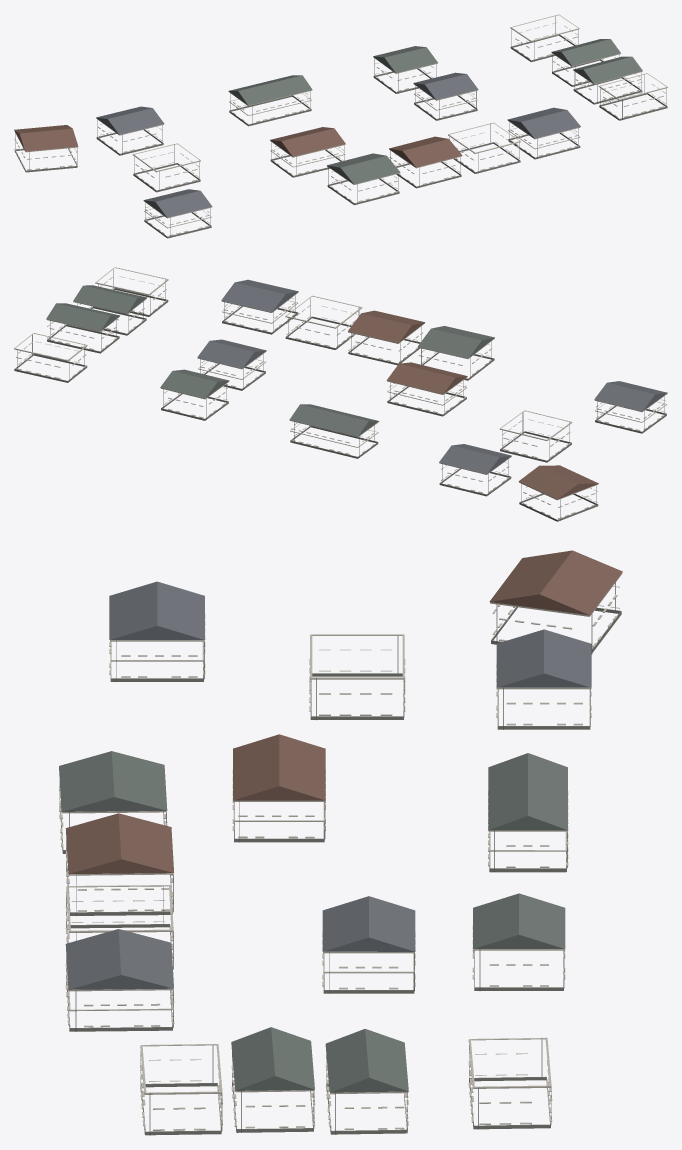
File: district_-2_2.glb
3 renders of one model, top to bottom at view 1: azimuth 30°, elevation 25°; view 2: azimuth 150°, elevation 25°; view 3: azimuth 270°, elevation 25°, orthographic. The views are drawn at different scales.
Visible parts, largest first — view 1: RoofMetal, MasonryTrim, MetalDetails; view 2: RoofMetal, MasonryTrim, MetalDetails; view 3: RoofMetal, MasonryTrim, MetalDetails.
Boxes of the visible parts, x1,y1,x2,y2 form: RoofMetal: (14,39,642,217); MasonryTrim: (14,14,667,238); MetalDetails: (15,16,666,237); RoofMetal: (46,279,667,499); MasonryTrim: (14,267,667,521); MetalDetails: (17,269,664,520); RoofMetal: (59,550,622,1092); MasonryTrim: (59,573,622,1135); MetalDetails: (59,582,615,1135).
Size of the model in its own units: 204 by 10.1 by 90.95.
